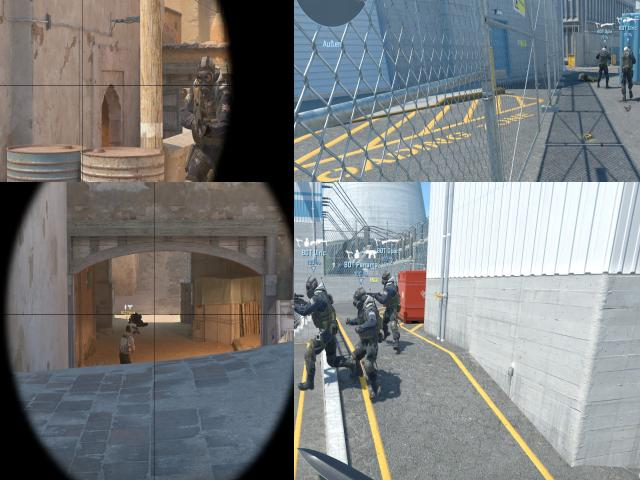Bomb: (582, 131, 595, 142)
CT: (177, 54, 229, 182), (306, 275, 334, 387), (354, 289, 378, 387), (382, 272, 400, 352), (622, 45, 633, 99), (598, 44, 609, 87)
CT-Head: (197, 57, 216, 89), (306, 277, 320, 297), (354, 288, 368, 307), (381, 271, 392, 284), (602, 44, 608, 52), (623, 45, 630, 51)
Dead: (128, 312, 148, 324), (579, 71, 597, 84)
T: (120, 324, 135, 364)
T-Head: (125, 325, 131, 333)
